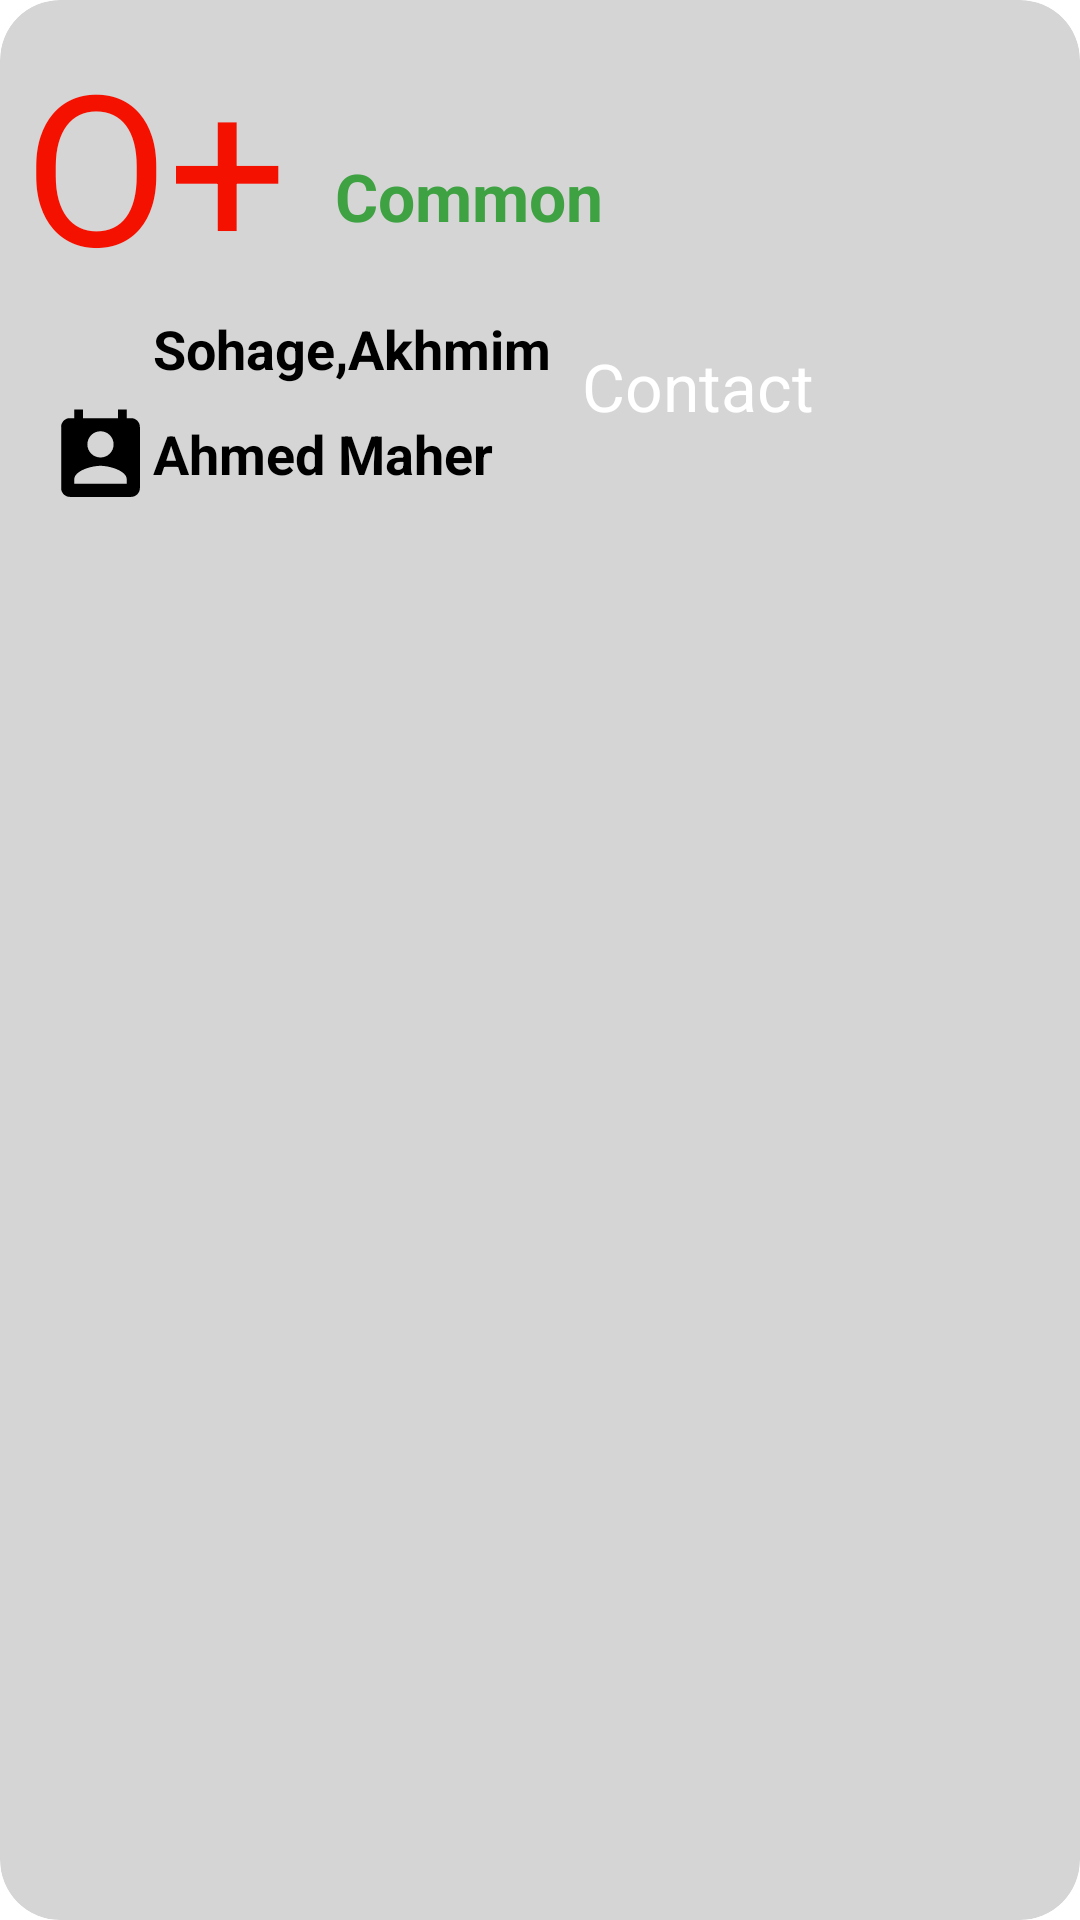

Screen size 1080×1920. Icon name, then its center in pixels as (x,y):
contact: (100,453)
